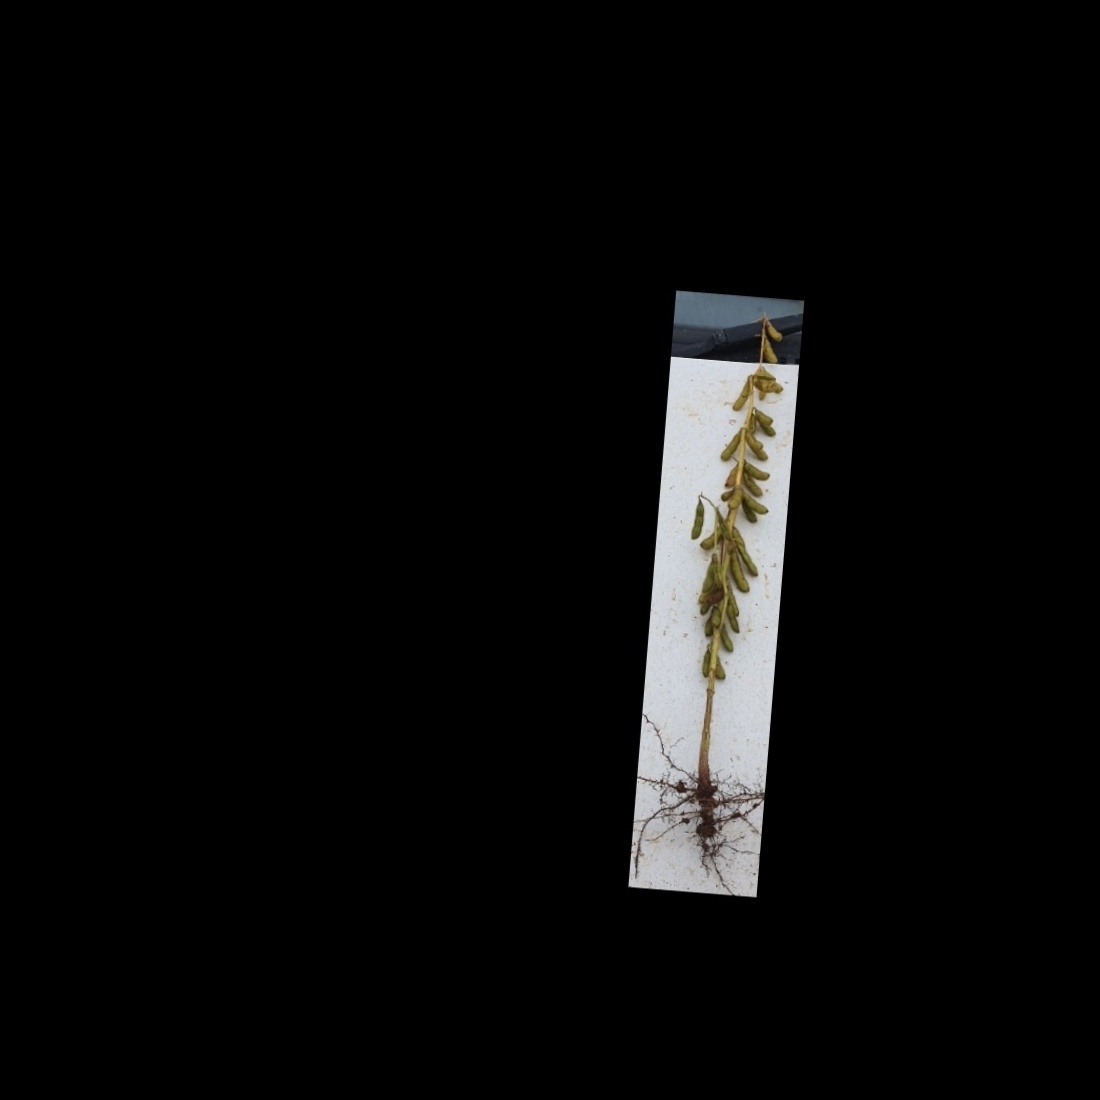pod: (729, 552, 752, 596), (687, 497, 709, 541), (717, 426, 742, 464), (729, 374, 752, 412), (740, 470, 762, 497), (761, 335, 779, 365), (719, 621, 735, 653), (711, 654, 727, 684), (726, 485, 743, 512), (697, 648, 710, 678)
soy: (646, 300, 796, 866)
